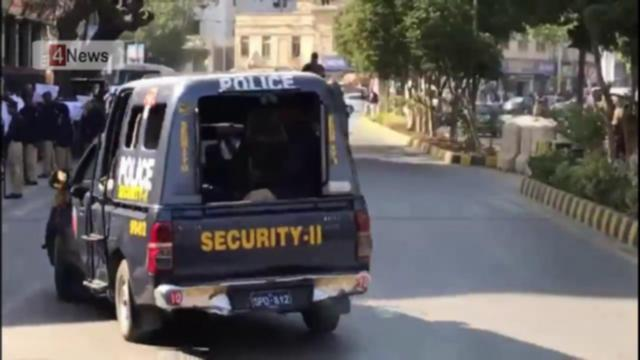police: (44, 73, 375, 334)
